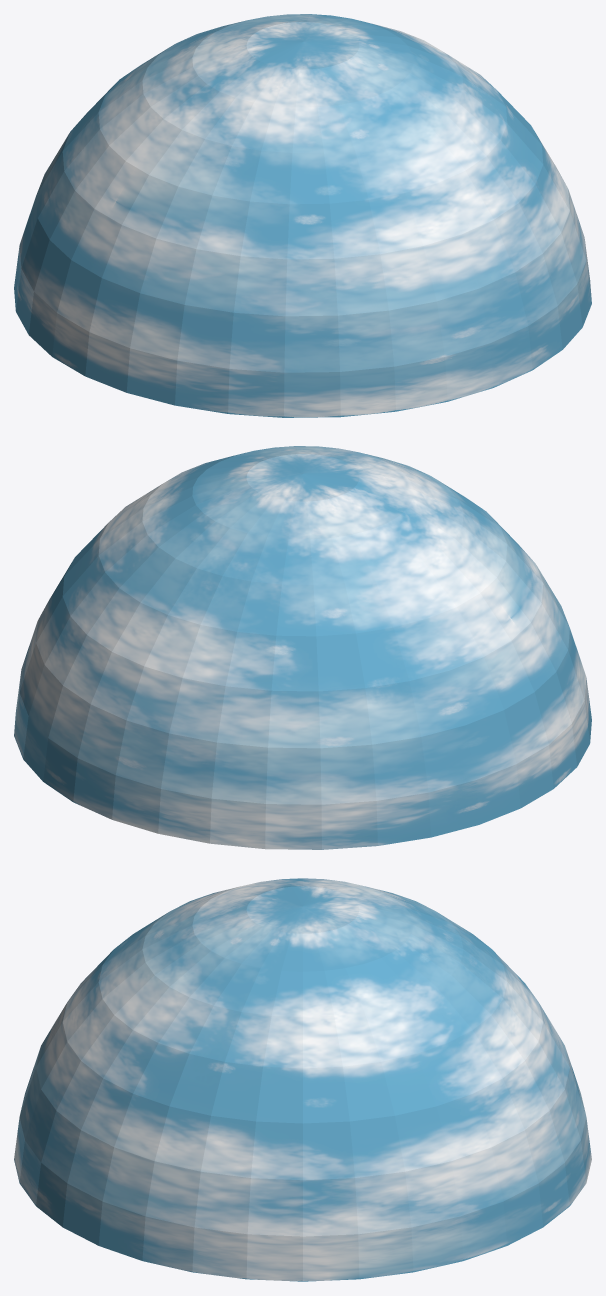
The model's file is dom.obj.
The picture shows the model from 3 angles, top to bottom: view 1: azimuth 30°, elevation 25°; view 2: azimuth 150°, elevation 25°; view 3: azimuth 270°, elevation 25°; orthographic projection.
Parts seen in each view (by area): view 1: Sphere; view 2: Sphere; view 3: Sphere.
Part boxes in pixels (x1,y1,x2,y2): Sphere: (14, 14, 591, 417); Sphere: (14, 446, 591, 849); Sphere: (14, 878, 591, 1281).
Bounding box in the file's own units: 0.9904 × 0.4789 × 0.9904.
